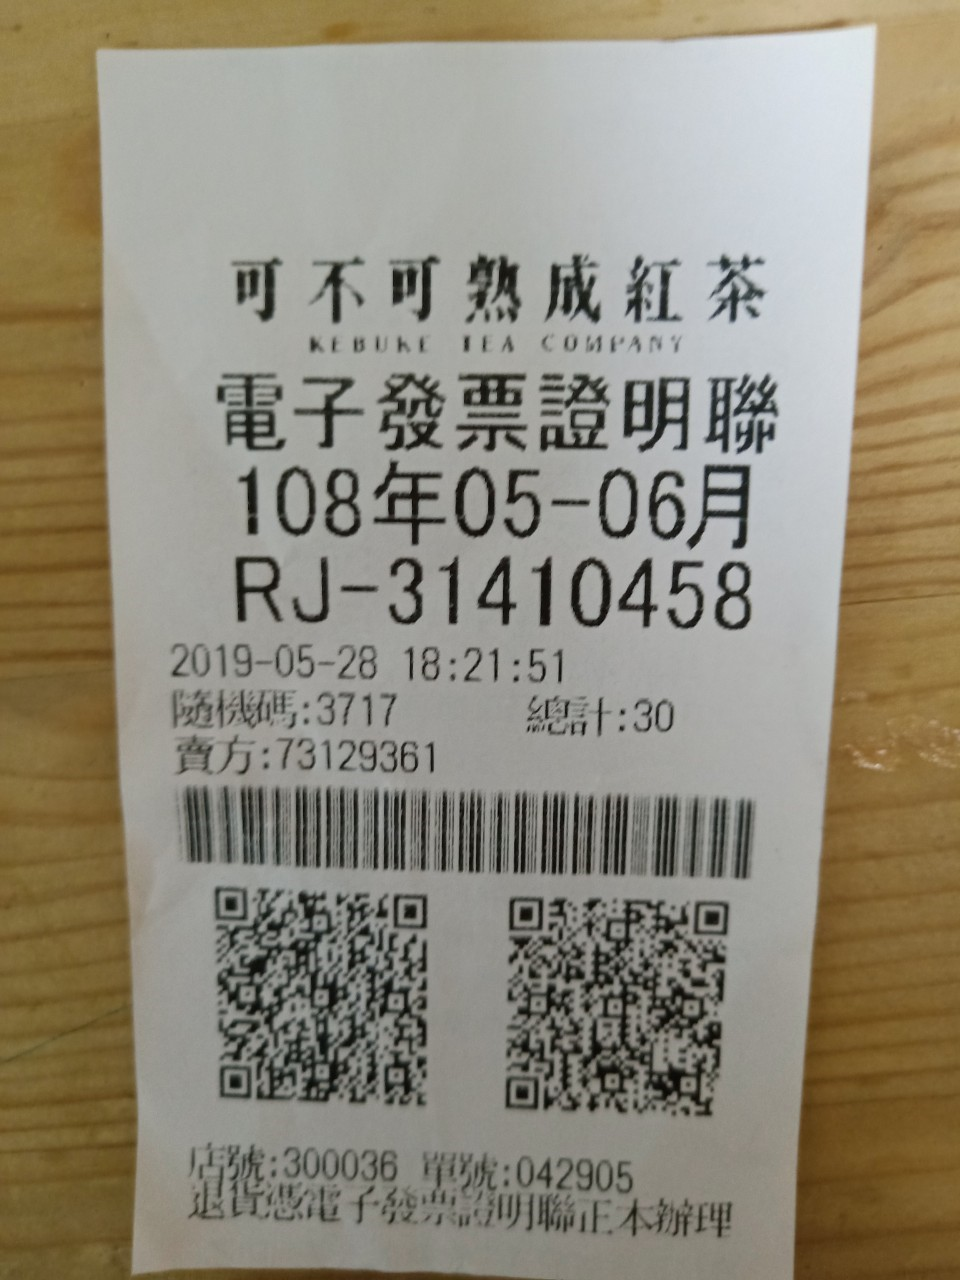Date_New: (235, 462, 753, 553)
Number_New: (381, 553, 758, 633)
